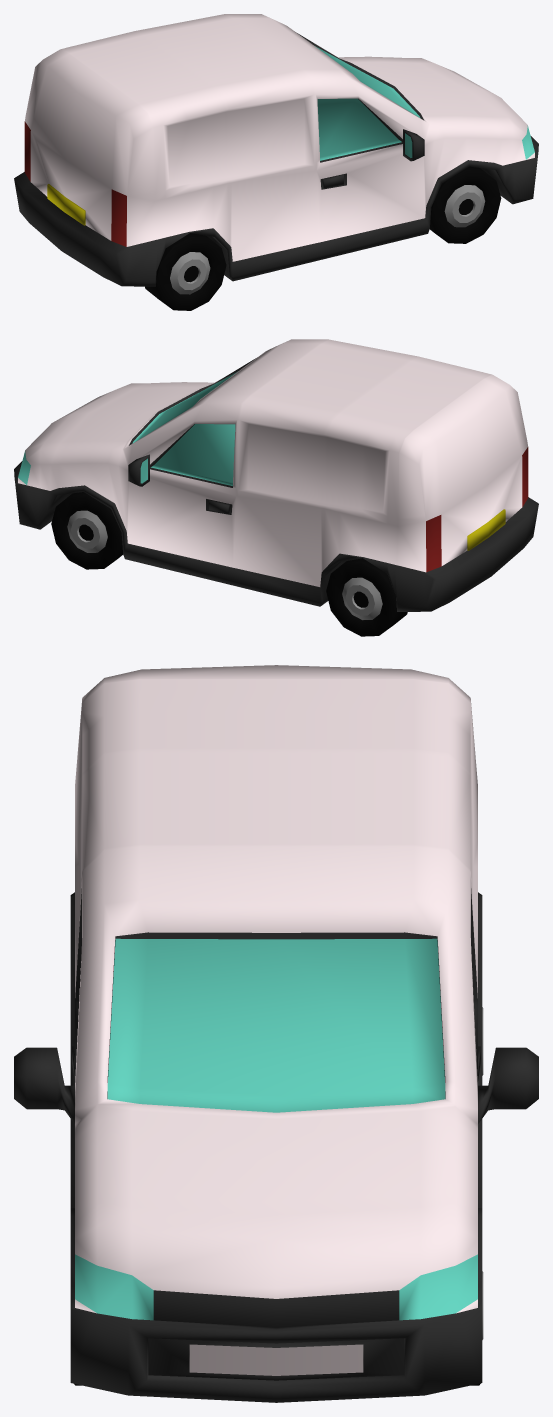
File: Vauxhall_Combo.fbx
The picture shows the model from 3 angles, top to bottom: view 1: azimuth 30°, elevation 25°; view 2: azimuth 150°, elevation 25°; view 3: azimuth 270°, elevation 25°; orthographic projection. The views are drawn at different scales.
Parts seen in each view (by area): view 1: Vauxhall_combo; view 2: Vauxhall_combo; view 3: Vauxhall_combo.
Boxes of the visible parts, left/top/right/bottom form: Vauxhall_combo: left=14, top=14, right=538, bottom=310; Vauxhall_combo: left=14, top=339, right=538, bottom=636; Vauxhall_combo: left=14, top=665, right=538, bottom=1402.
Size of the model in its own units: 439 by 188 by 224.
